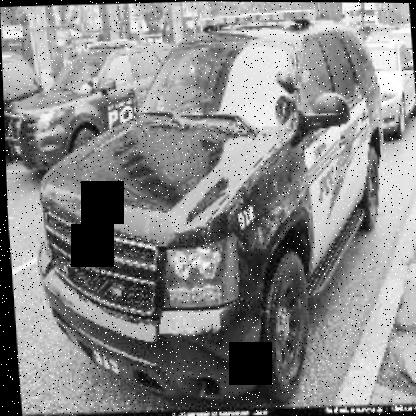emergency: (20, 1, 402, 415)
